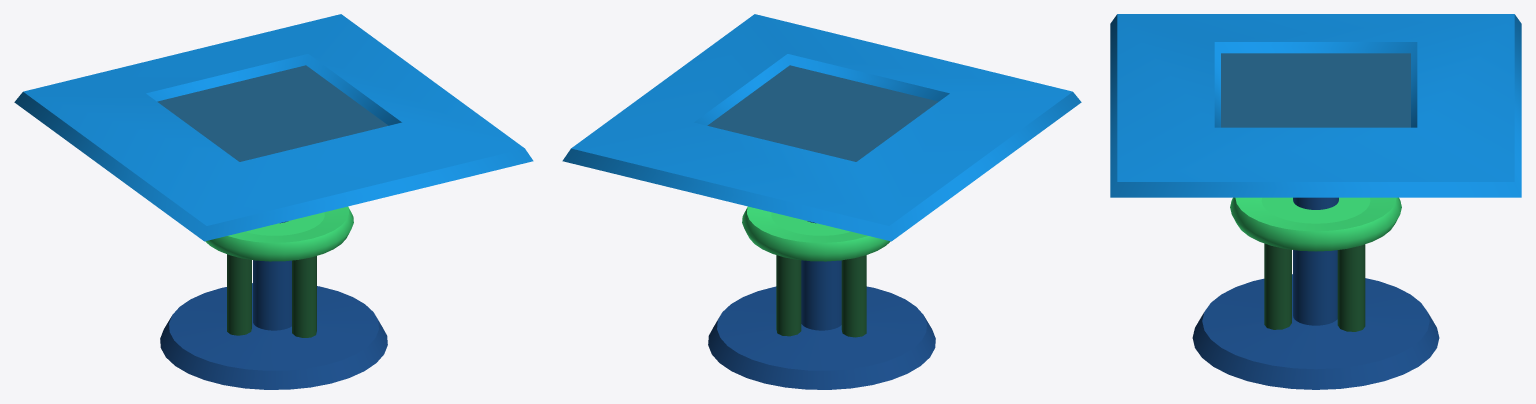
File: TableAndChairSquare.fbx
3 renders of one model, left to right at view 1: azimuth 30°, elevation 25°; view 2: azimuth 150°, elevation 25°; view 3: azimuth 270°, elevation 25°, orthographic. The views are drawn at different scales.
Visible parts, largest first — view 1: Table_1, Table, Table_2, Chair; view 2: Table_1, Table, Table_2, Chair; view 3: Table_1, Table, Table_2, Chair.
Boxes of the visible parts, bbox=[...] form: Table_1: bbox=[14, 14, 533, 241]; Table: bbox=[160, 221, 387, 389]; Table_2: bbox=[157, 65, 388, 161]; Chair: bbox=[205, 206, 353, 337]; Table_1: bbox=[562, 14, 1081, 241]; Table: bbox=[708, 221, 935, 389]; Table_2: bbox=[707, 65, 938, 161]; Chair: bbox=[742, 206, 890, 337]; Table_1: bbox=[1110, 14, 1521, 197]; Table: bbox=[1192, 197, 1439, 389]; Table_2: bbox=[1221, 53, 1410, 127]; Chair: bbox=[1230, 197, 1401, 331].
Bounding box in the file's own units: 141 × 95.98 × 141.
